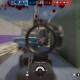Character: (38, 38, 45, 48)
Head: (42, 38, 44, 40)
